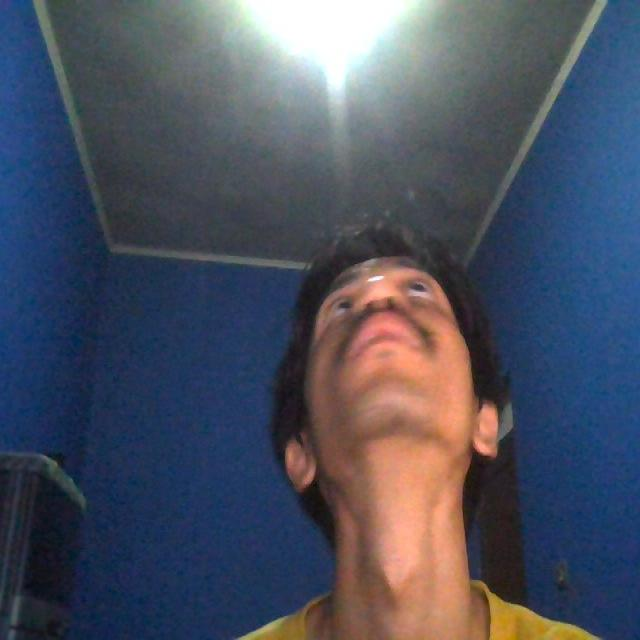Melihat keatas: (274, 198, 511, 563)
